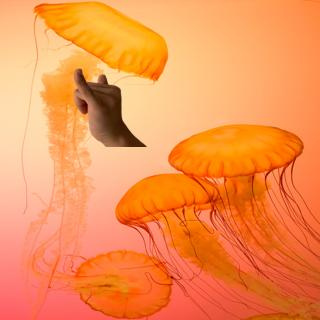HAVE: (65, 63, 134, 145)
